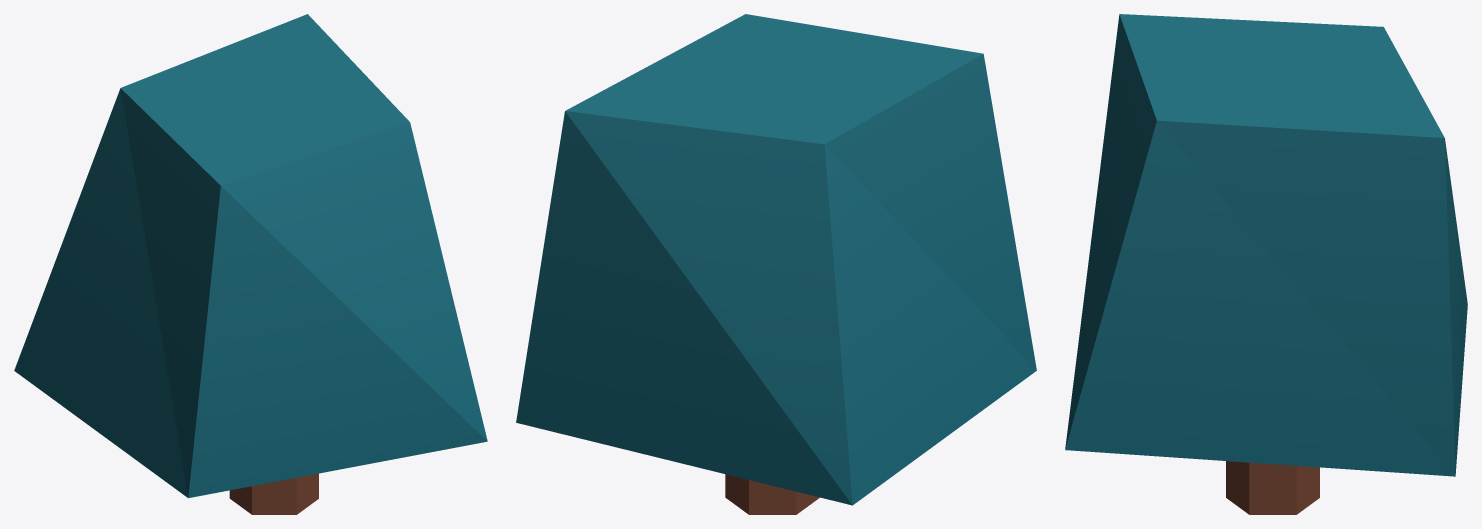
File: Bush_11_gradient_blue_vc.fbx
The picture shows the model from 3 angles, left to right: view 1: azimuth 30°, elevation 25°; view 2: azimuth 150°, elevation 25°; view 3: azimuth 270°, elevation 25°; orthographic projection. The views are drawn at different scales.
Visible parts, largest first — view 1: Bush_11_gradient_blue_vc; view 2: Bush_11_gradient_blue_vc; view 3: Bush_11_gradient_blue_vc.
Part boxes in pixels (x1=…): Bush_11_gradient_blue_vc: x1=14, y1=14, x2=487, y2=514; Bush_11_gradient_blue_vc: x1=516, y1=14, x2=1036, y2=514; Bush_11_gradient_blue_vc: x1=1065, y1=14, x2=1467, y2=514.
Size of the model in its own units: 50.88 by 59.59 by 51.95.
